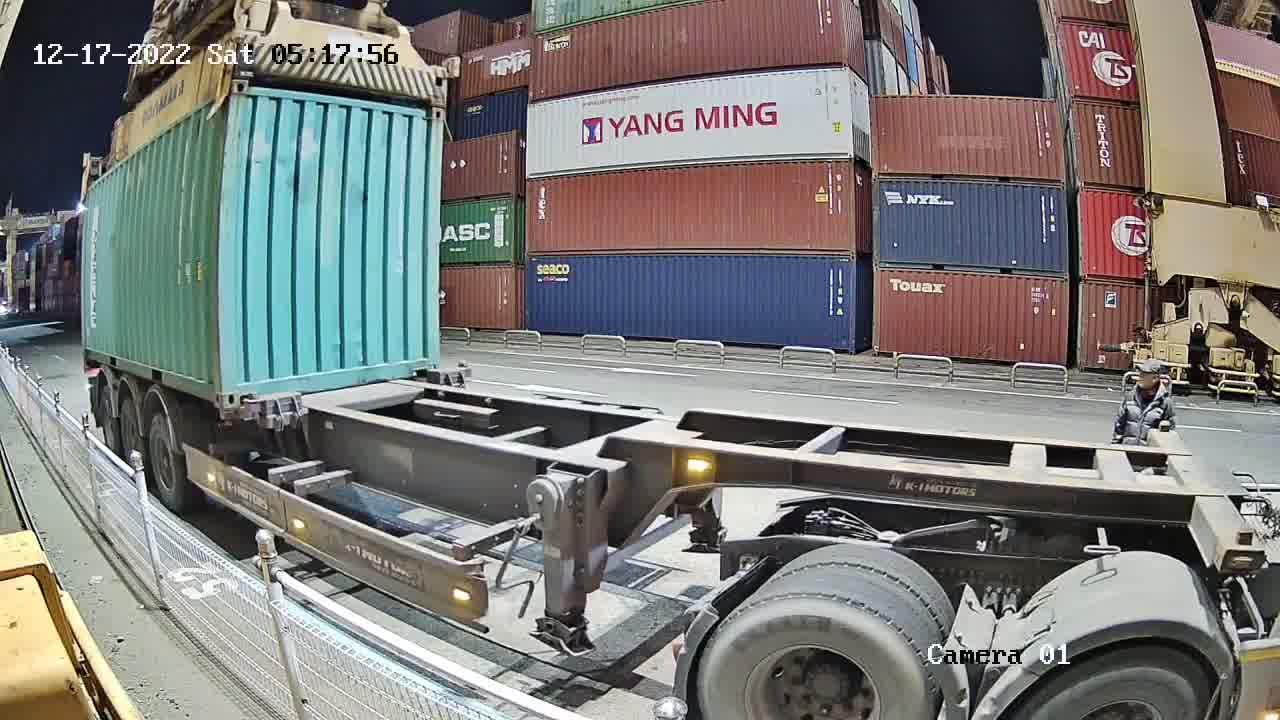Chassis: (237, 363, 472, 427)
Cone: (219, 412, 238, 432)
Container: (218, 343, 442, 409)
Hole_L: (220, 367, 253, 411)
Hole_R: (416, 343, 441, 375), (204, 369, 223, 408)
Tire: (697, 593, 936, 719), (1009, 642, 1223, 719), (149, 416, 183, 511), (117, 402, 144, 468)
